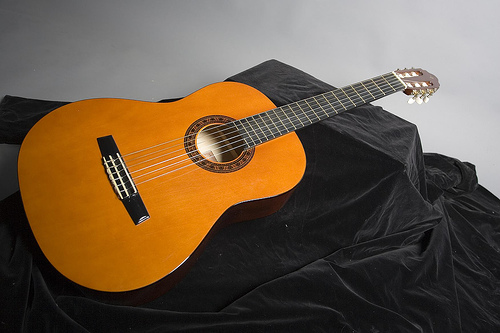guitar: (17, 64, 442, 296)
